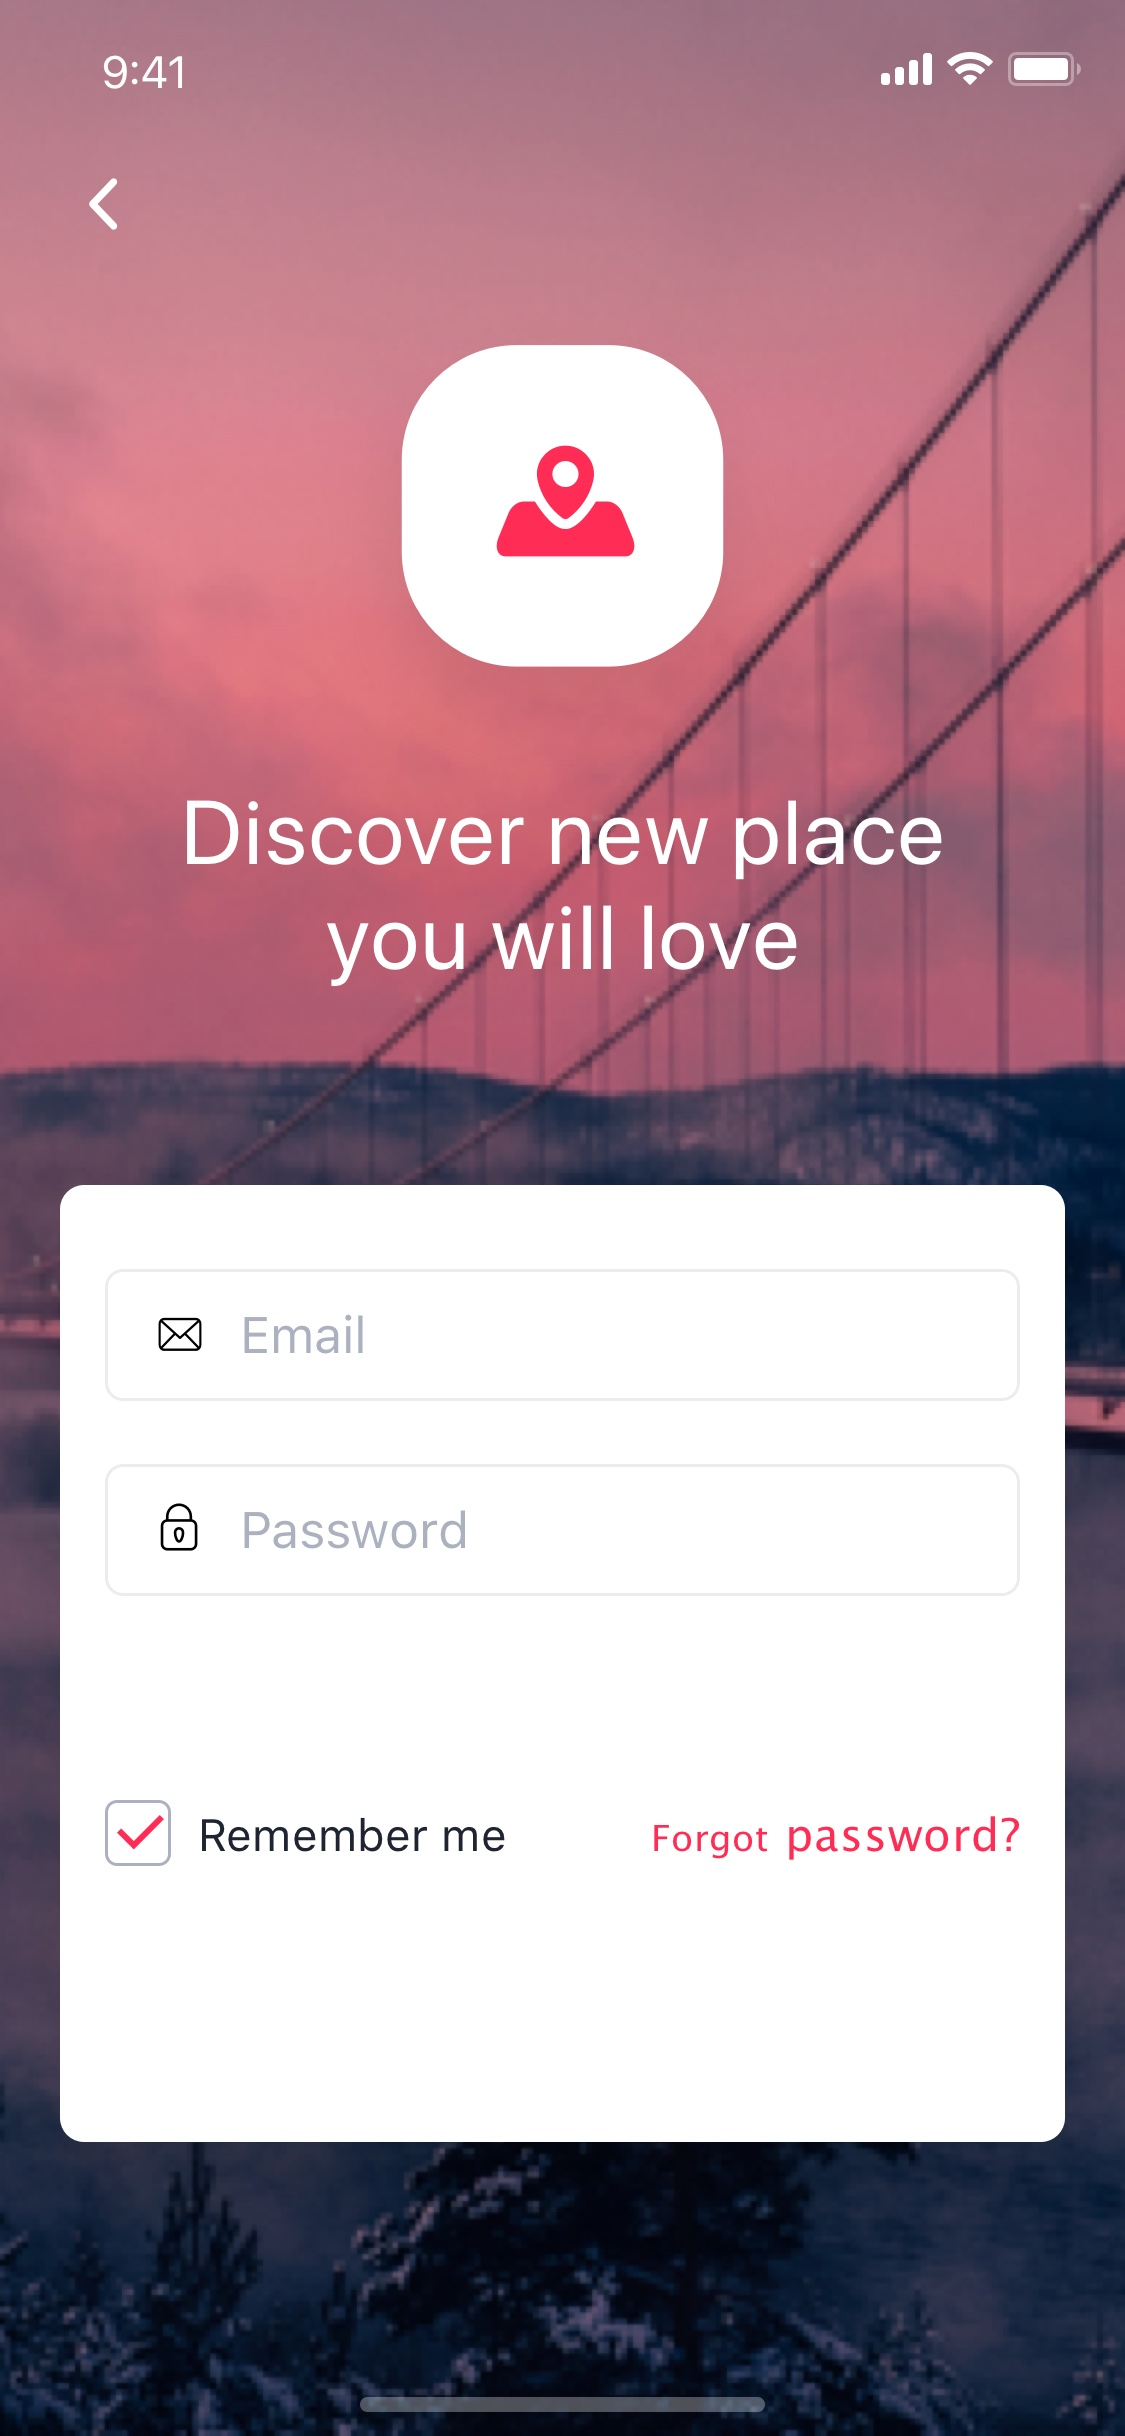BackgroundImage: (2, 2, 1125, 2436)
CheckedTextView: (104, 1799, 508, 1867)
EditText: (106, 1463, 1019, 1597), (106, 1269, 1019, 1401)
Icon: (162, 1502, 199, 1552), (89, 179, 120, 231), (158, 1317, 204, 1352)
Image: (401, 345, 726, 668)
Text: (186, 799, 943, 988), (653, 1815, 1019, 1861), (200, 1818, 507, 1853), (244, 1509, 468, 1550), (244, 1314, 364, 1355)
UpperTaskBar: (103, 51, 1081, 92)
